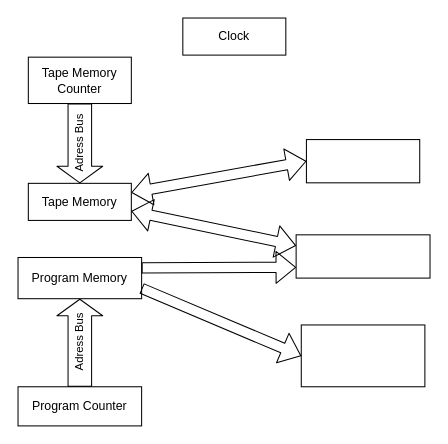
This 448x444 diagram has some shape labels left out. The box of each missing label's shape, as (x1, y1, x2, y2) in pixels:
Control Logic: (300, 324, 425, 387)
Counter Unit (ALU): (295, 234, 430, 278)
IO Unit: (305, 139, 420, 183)
